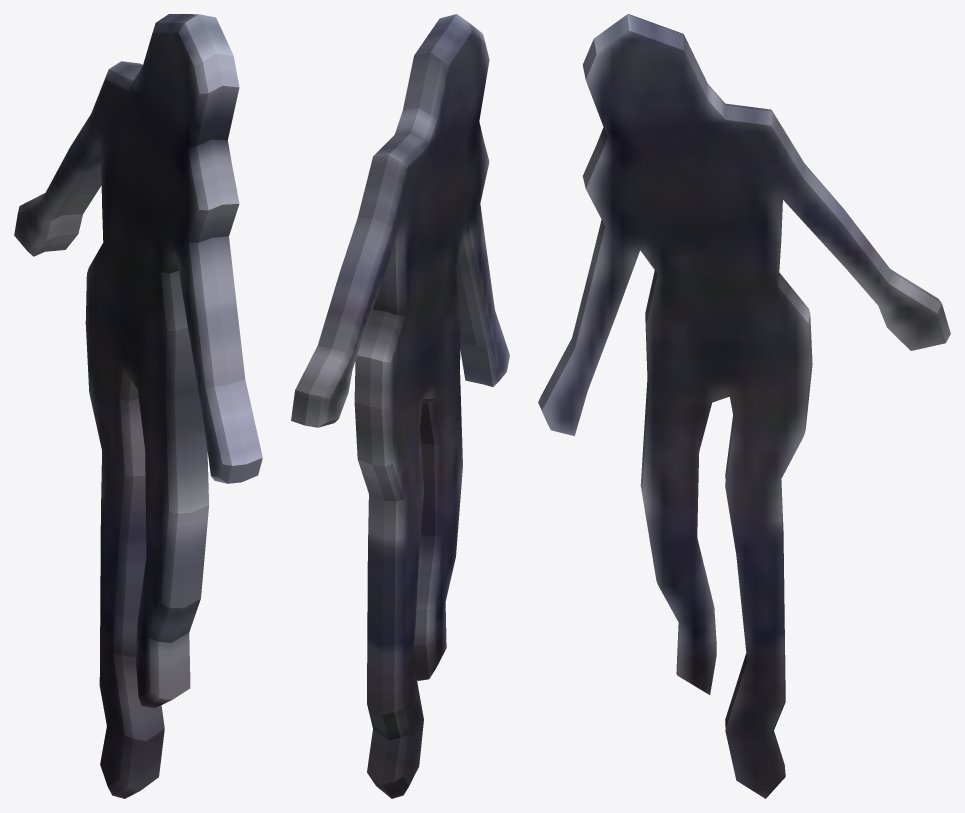
Rendered from figure.glb.
3 views of the same model, side by side, from view 1: azimuth 30°, elevation 25°; view 2: azimuth 150°, elevation 25°; view 3: azimuth 270°, elevation 25° (orthographic). The views are drawn at different scales.
Visible parts, largest first — view 1: figure; view 2: figure; view 3: figure.
Part boxes in pixels (bbox=[...]): figure: bbox=[14, 14, 262, 798]; figure: bbox=[291, 14, 509, 798]; figure: bbox=[538, 14, 950, 798].
Bounding box in the file's own units: 0.04 × 0.8719 × 0.4157.
Materials: 1 (1 with a texture image).
